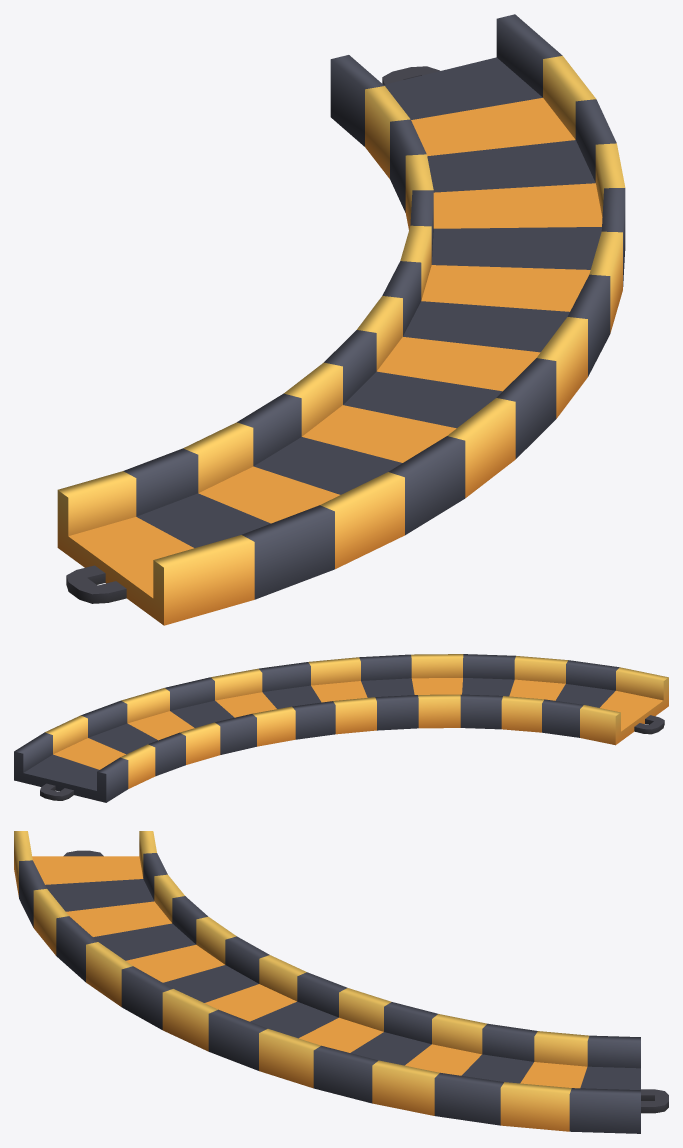
Rendered from track-striped-narrow-corner-large.fbx.
3 renders of one model, top to bottom at view 1: azimuth 30°, elevation 25°; view 2: azimuth 150°, elevation 25°; view 3: azimuth 270°, elevation 25°, orthographic. The views are drawn at different scales.
Visible parts, largest first — view 1: track-striped-narrow-corner-large; view 2: track-striped-narrow-corner-large; view 3: track-striped-narrow-corner-large.
Part boxes in pixels (<box>): track-striped-narrow-corner-large: <box>57,14,625,625</box>; track-striped-narrow-corner-large: <box>14,654,668,802</box>; track-striped-narrow-corner-large: <box>14,831,668,1133</box>.
Bounding box in the file's own units: 470 × 30 × 470.
